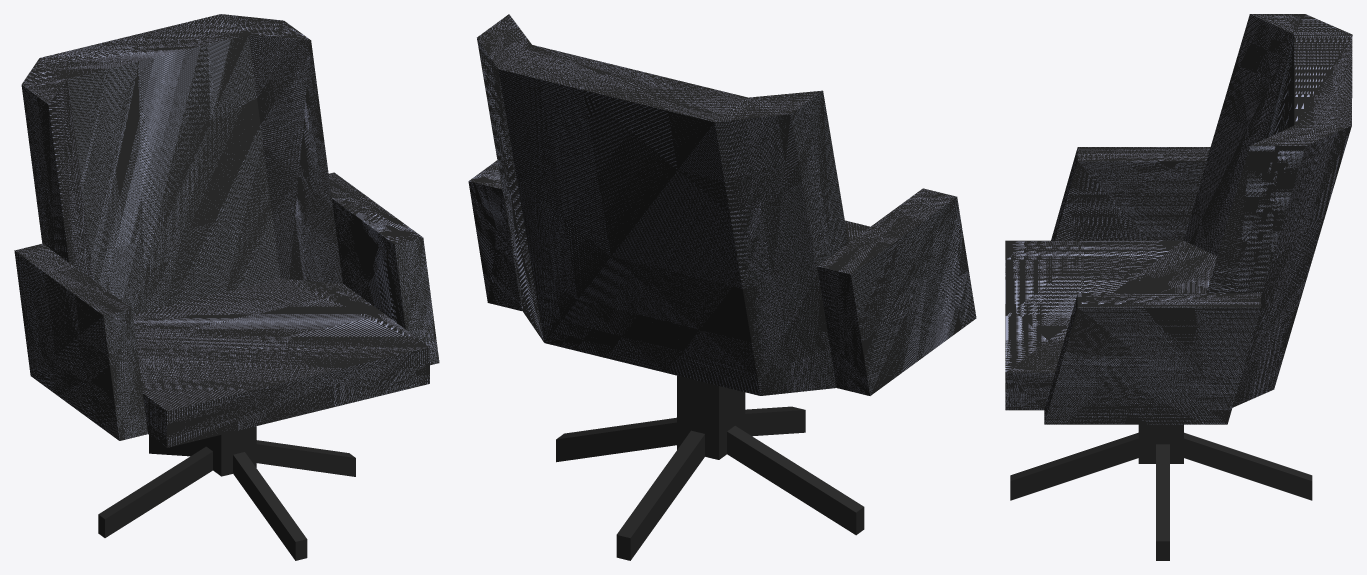
Rendered from comchair.dae.
3 views of the same model, side by side, from view 1: azimuth 30°, elevation 25°; view 2: azimuth 150°, elevation 25°; view 3: azimuth 270°, elevation 25° (orthographic). The views are drawn at different scales.
Parts seen in each view (by area): view 1: SketchUp (×2), ExecChairBase; view 2: SketchUp (×2), ExecChairBase; view 3: SketchUp (×2), ExecChairBase.
Boxes of the visible parts, left/top/right/bottom form: SketchUp (×2): left=14, top=14, right=439, bottom=447; ExecChairBase: left=98, top=426, right=355, bottom=560; SketchUp (×2): left=468, top=14, right=976, bottom=395; ExecChairBase: left=556, top=375, right=864, bottom=560; SketchUp (×2): left=1005, top=14, right=1352, bottom=424; ExecChairBase: left=1010, top=424, right=1312, bottom=560.
Size of the model in its own units: 32.88 by 29.99 by 39.6.
